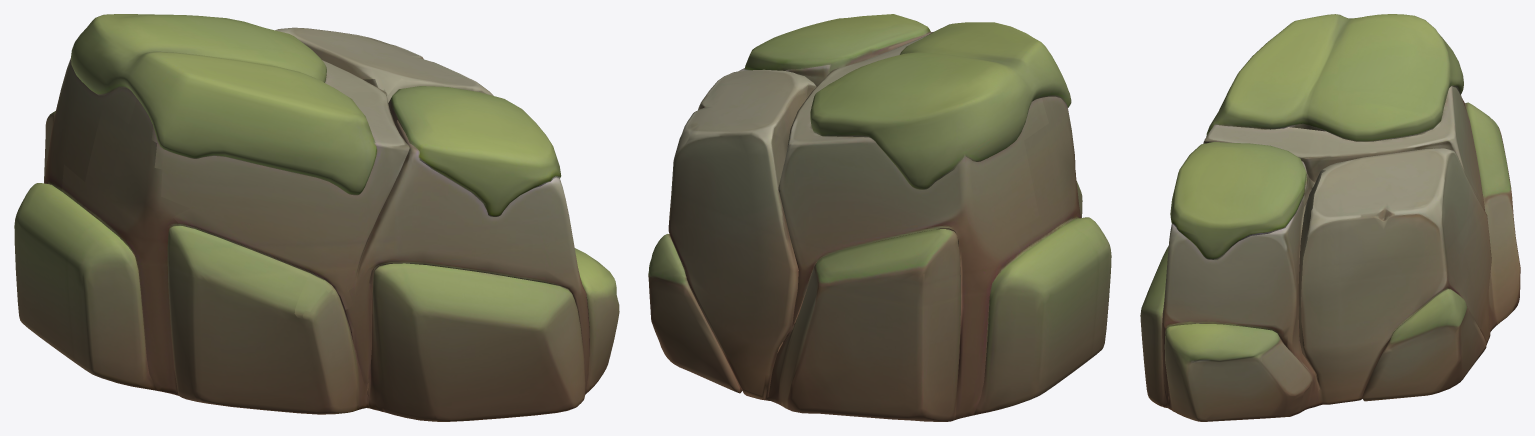
File: Rock_B.fbx
The picture shows the model from 3 angles, left to right: view 1: azimuth 30°, elevation 25°; view 2: azimuth 150°, elevation 25°; view 3: azimuth 270°, elevation 25°; orthographic projection. The views are drawn at different scales.
Visible parts, largest first — view 1: Rock_B; view 2: Rock_B; view 3: Rock_B.
Boxes of the visible parts, x1,y1,x2,y2 form: Rock_B: [14, 14, 619, 421]; Rock_B: [648, 14, 1111, 421]; Rock_B: [1140, 14, 1520, 421].
Size of the model in its own units: 3 by 2.17 by 2.75.
